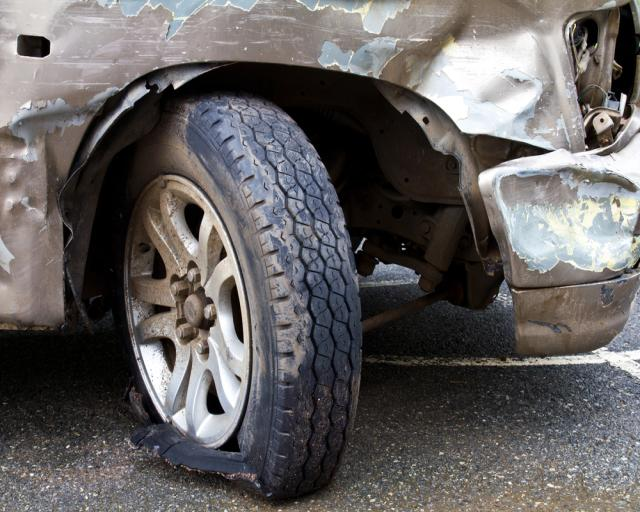dent: (404, 0, 542, 133), (497, 167, 640, 270)
scratch: (8, 0, 425, 132)
tire flat: (112, 90, 363, 500)
